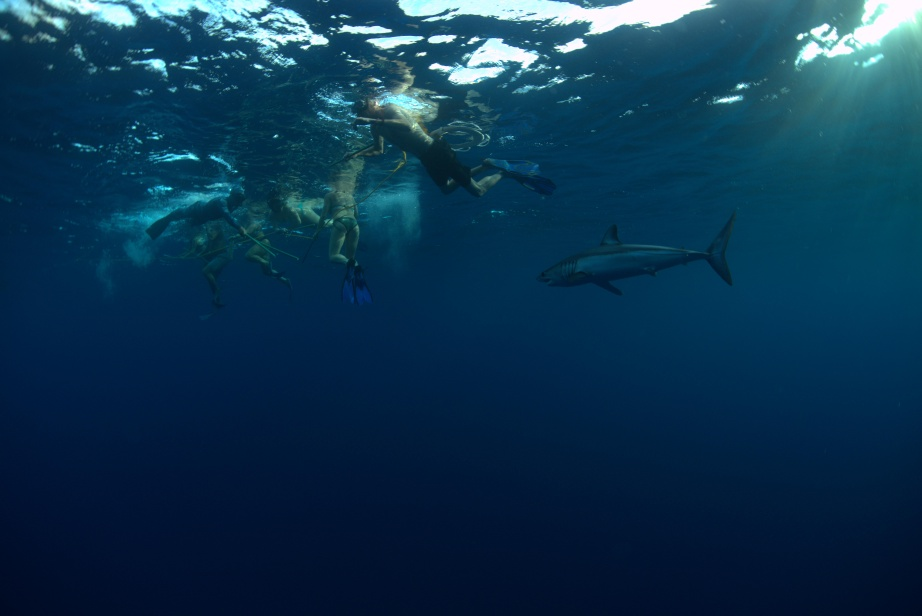Mako: (506, 206, 766, 311)
